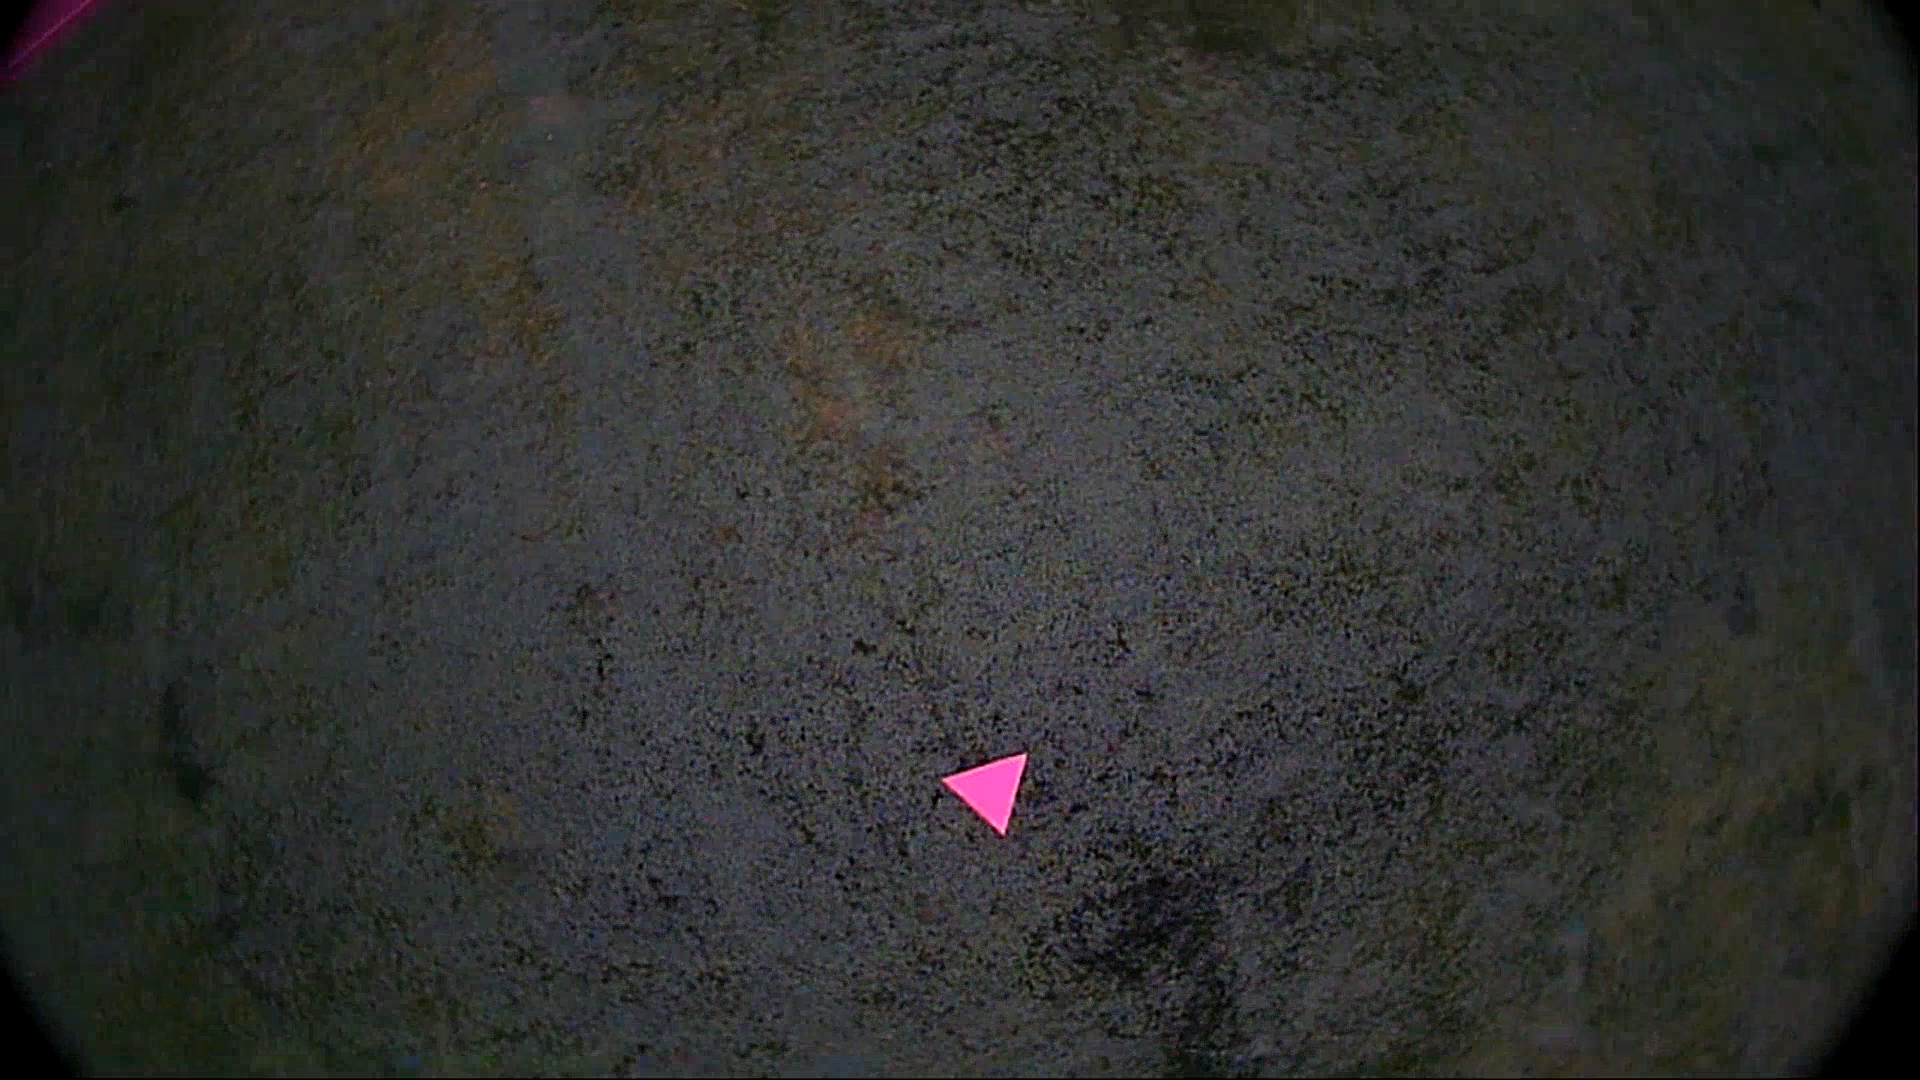triangle: (934, 737, 1043, 844)
